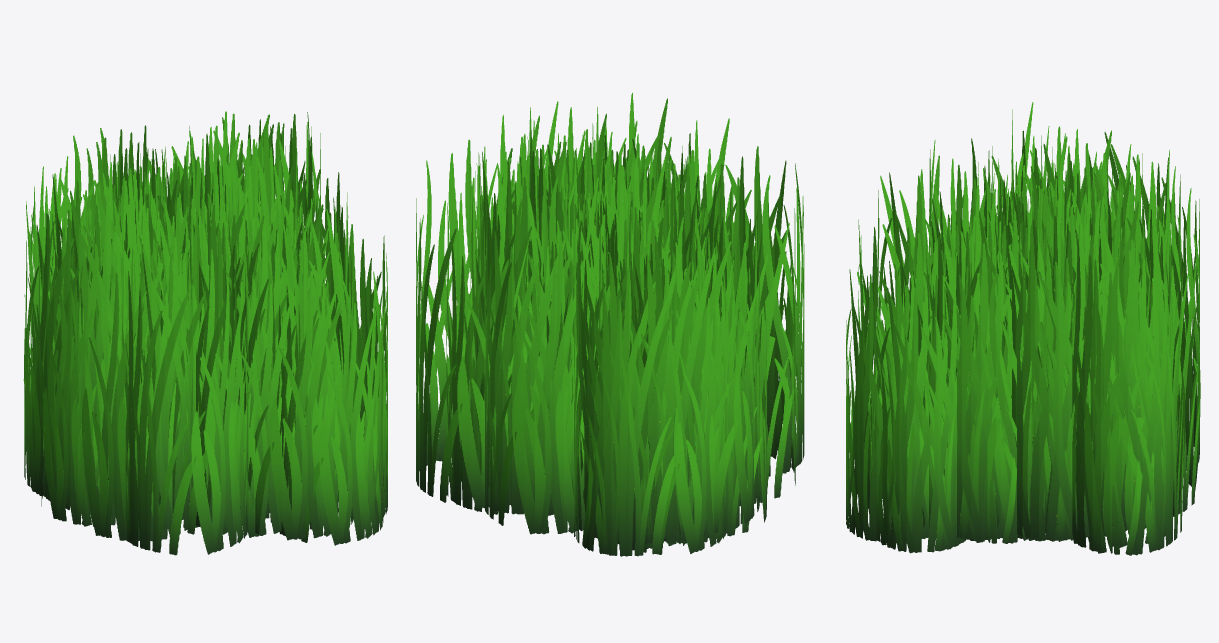
The model's file is mq4_pasto_alto_13.glb.
3 views of the same model, side by side, from view 1: azimuth 30°, elevation 25°; view 2: azimuth 150°, elevation 25°; view 3: azimuth 270°, elevation 25° (orthographic). The views are drawn at different scales.
Parts seen in each view (by area): view 1: red-baron-grass-ornamental-Va7qqJC-600_red-baron-grass-ornam (×6); view 2: red-baron-grass-ornamental-Va7qqJC-600_red-baron-grass-ornam (×6); view 3: red-baron-grass-ornamental-Va7qqJC-600_red-baron-grass-ornam (×6).
Boxes of the visible parts, <box> form: red-baron-grass-ornamental-Va7qqJC-600_red-baron-grass-ornam (×6): <box>23,111,387,555</box>; red-baron-grass-ornamental-Va7qqJC-600_red-baron-grass-ornam (×6): <box>416,93,804,556</box>; red-baron-grass-ornamental-Va7qqJC-600_red-baron-grass-ornam (×6): <box>846,102,1200,555</box>.
Size of the model in its own units: 0.7869 by 1.18 by 0.8259.
Materials: 1 (1 with a texture image).
